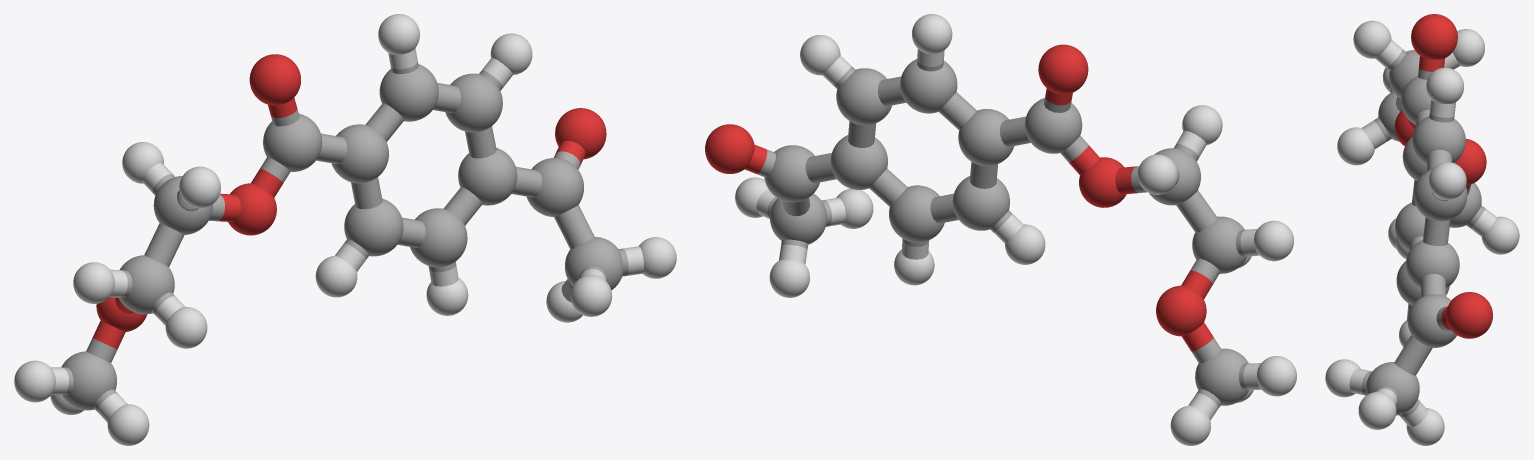
File: pet.glb
3 views of the same model, side by side, from view 1: azimuth 30°, elevation 25°; view 2: azimuth 150°, elevation 25°; view 3: azimuth 270°, elevation 25° (orthographic). The views are drawn at different scales.
Parts seen in each view (by area): view 1: atoms, bonds; view 2: atoms, bonds; view 3: atoms, bonds.
Boxes of the visible parts, bbox=[...] form: atoms: bbox=[14, 14, 676, 445]; bonds: bbox=[51, 48, 644, 422]; atoms: bbox=[705, 14, 1296, 445]; bonds: bbox=[745, 49, 1261, 419]; atoms: bbox=[1325, 14, 1519, 445]; bonds: bbox=[1349, 39, 1496, 426].
Size of the model in its own units: 1.7 by 0.9168 by 0.5115.
